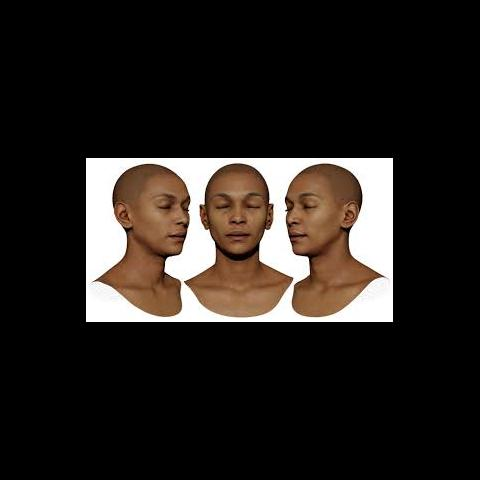closed: (213, 192, 262, 214), (152, 192, 192, 214), (286, 195, 316, 214)
